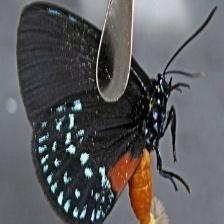butterfly: (18, 3, 189, 224)
